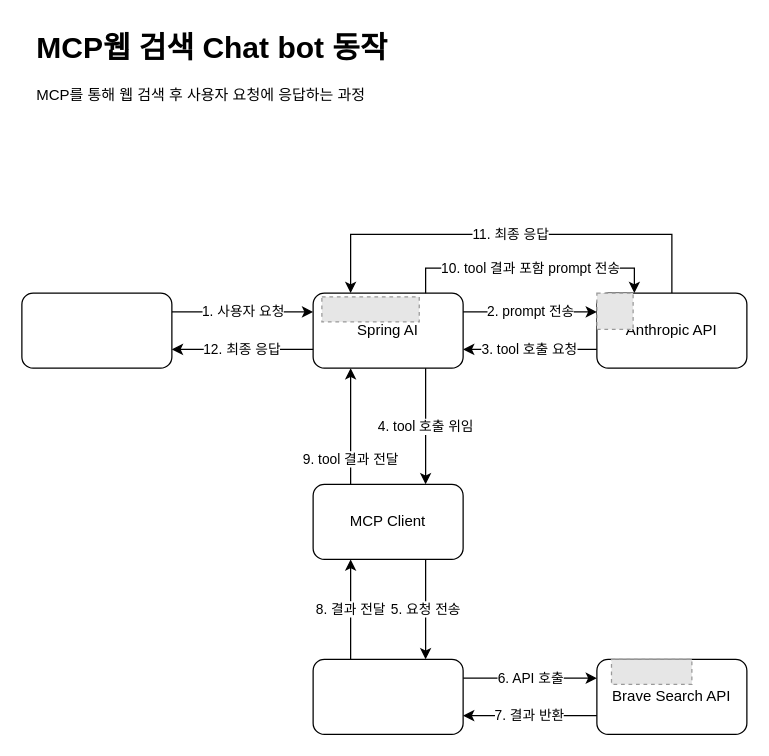
The diagram is 769 pixels wide and 756 high, and some of its shapes have lost their labels. Grey dashed boxes stand in for pictures. The shapes that lost their labels are listed below. From the top down, each one's centre as x and y in pixels, then its label:
At (96,330): "User".
At (387,696): "MCP Server".
